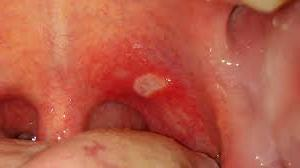Ulcer: (127, 63, 175, 105)
